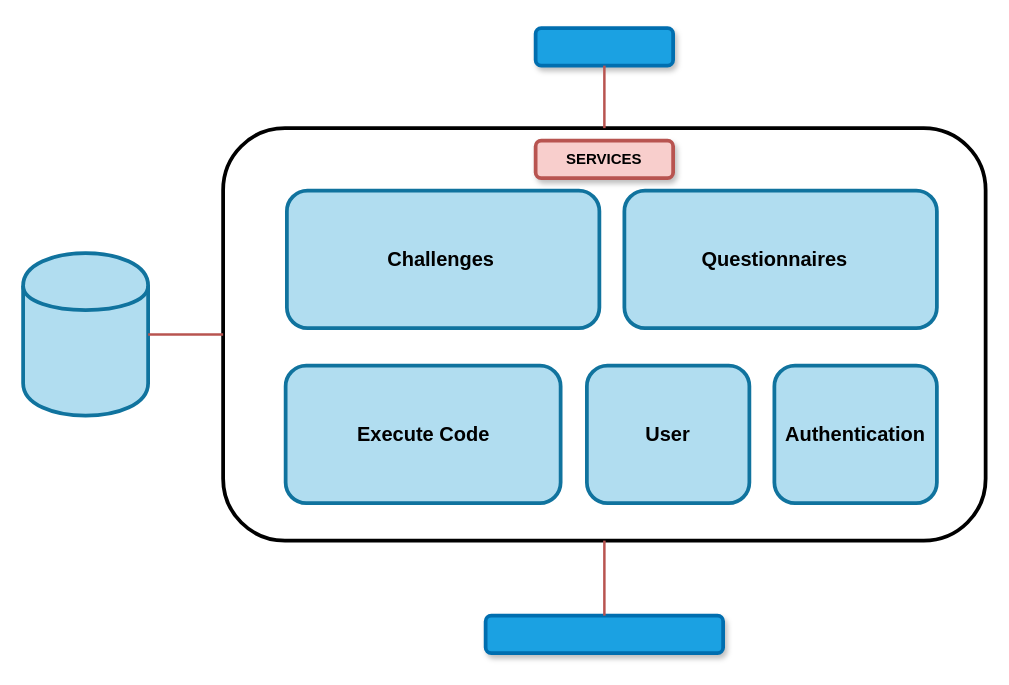
Some shapes in this 1009 by 685 pixel diagram are drawn without their labels. Here are the shapes that lost their labels. From the top down, the centre of each, then its label:
point 605,48: WEB CLIENT
point 85,334: DB
point 605,635: EXECUTION ENVIRONMENTS
